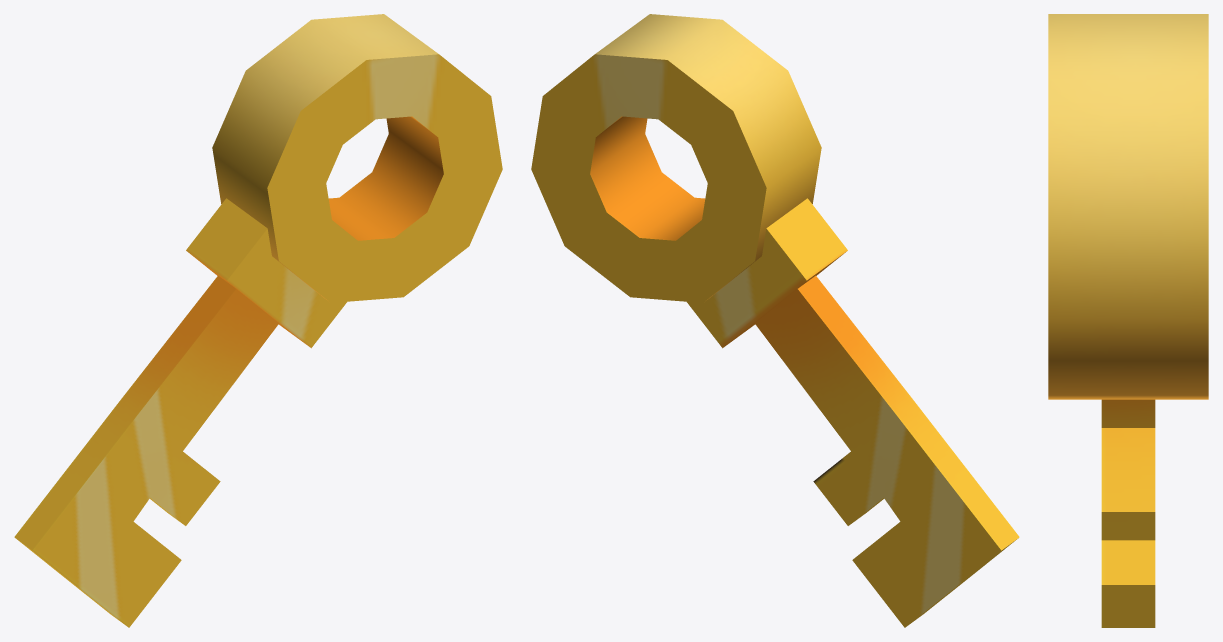
Rendered from Key.FBX.
3 renders of one model, left to right at view 1: azimuth 30°, elevation 25°; view 2: azimuth 150°, elevation 25°; view 3: azimuth 270°, elevation 25°, orthographic. The views are drawn at different scales.
Parts seen in each view (by area): view 1: Key; view 2: Key; view 3: Key.
Part boxes in pixels (bbox=[...]): Key: bbox=[14, 14, 502, 627]; Key: bbox=[531, 14, 1019, 627]; Key: bbox=[1048, 14, 1208, 627].
Bounding box in the file's own units: 0.7583 × 0.8467 × 0.16.
